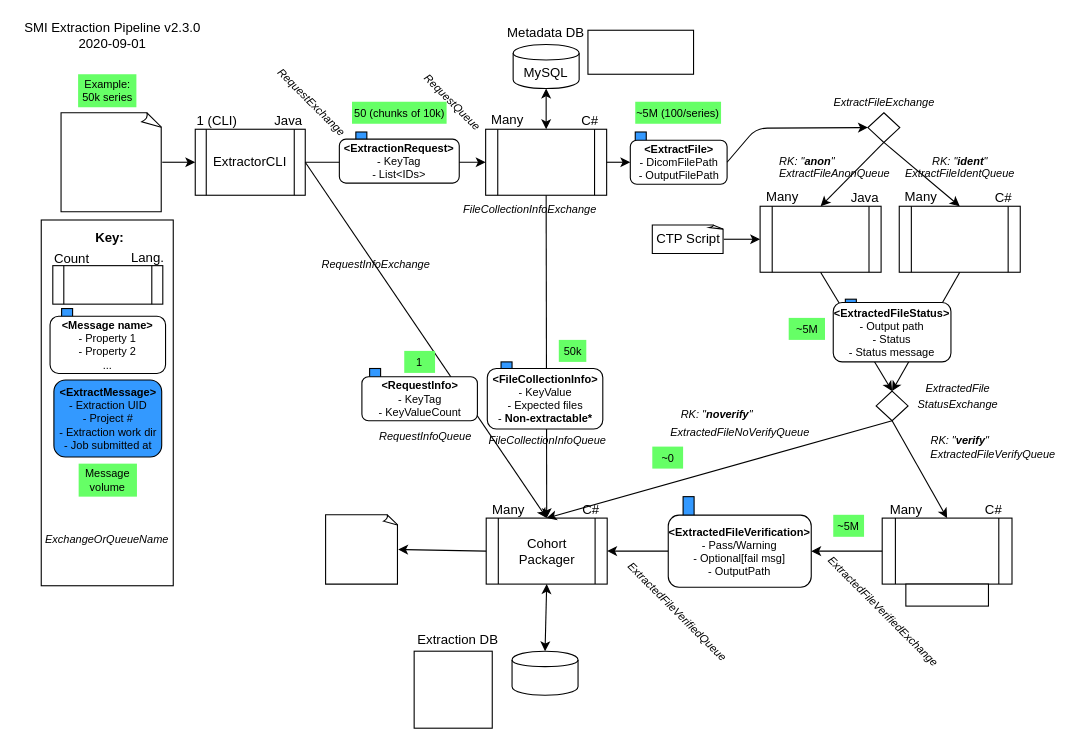
The diagram is 1082 pixels wide and 747 high, and some of its shapes have lost their labels. Each missing label, with the box of its shape:
Anonymisation Validator: (881, 517, 1012, 584)
CohortExtractor: (485, 128, 607, 195)
Collections: - Ingest - InProgress - ForReview - Completed: (413, 650, 492, 728)
CTP Anonymiser: (759, 205, 881, 272)
Extraction IDs One of: - Study + Mod. - Series - Image: (60, 112, 162, 212)
Extraction report: (324, 514, 398, 584)
FileCopier (only for identifiable extractions): (898, 205, 1020, 272)
Image supertable: - DicomFilePath - IsExtractable: (587, 29, 694, 74)
IsIdentifiable: (905, 583, 988, 606)
MongoDB: (511, 650, 578, 695)
Serivce Name: (52, 265, 163, 304)
